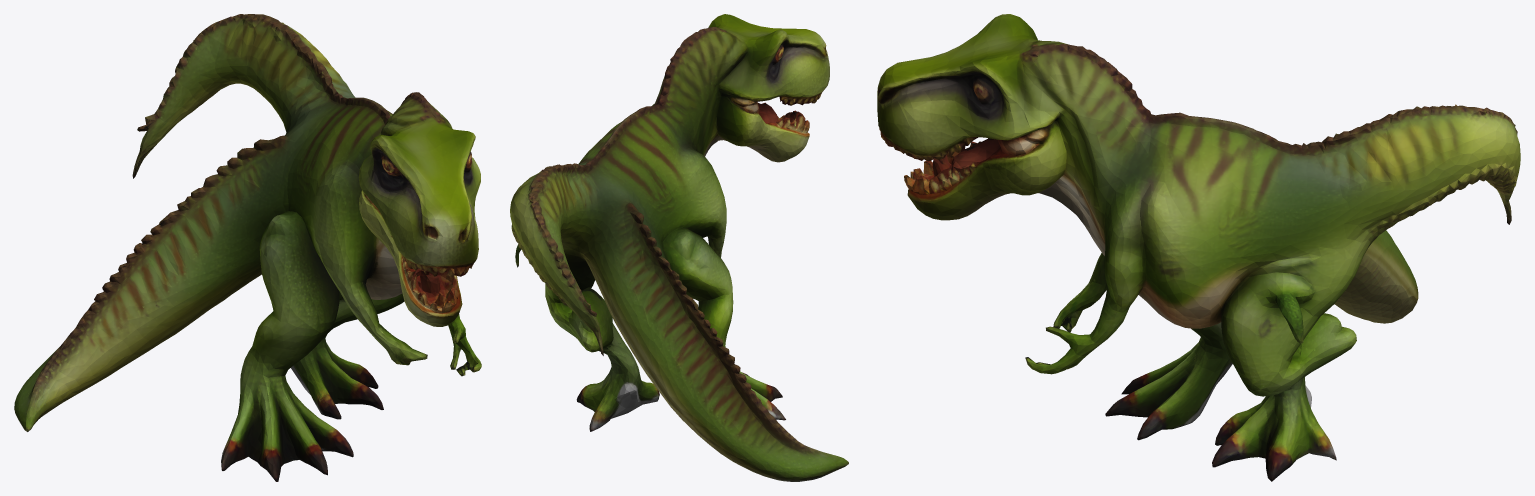
3 views of the same model, side by side, from view 1: azimuth 30°, elevation 25°; view 2: azimuth 150°, elevation 25°; view 3: azimuth 270°, elevation 25° (orthographic). The views are drawn at different scales.
Visible parts, largest first — view 1: world; view 2: world; view 3: world.
Part boxes in pixels (bbox=[...]): world: bbox=[14, 14, 481, 481]; world: bbox=[510, 14, 848, 481]; world: bbox=[877, 14, 1520, 481].
Bounding box in the file's own units: 0.7809 × 0.7116 × 0.9992.
1 material, 1 textured.
